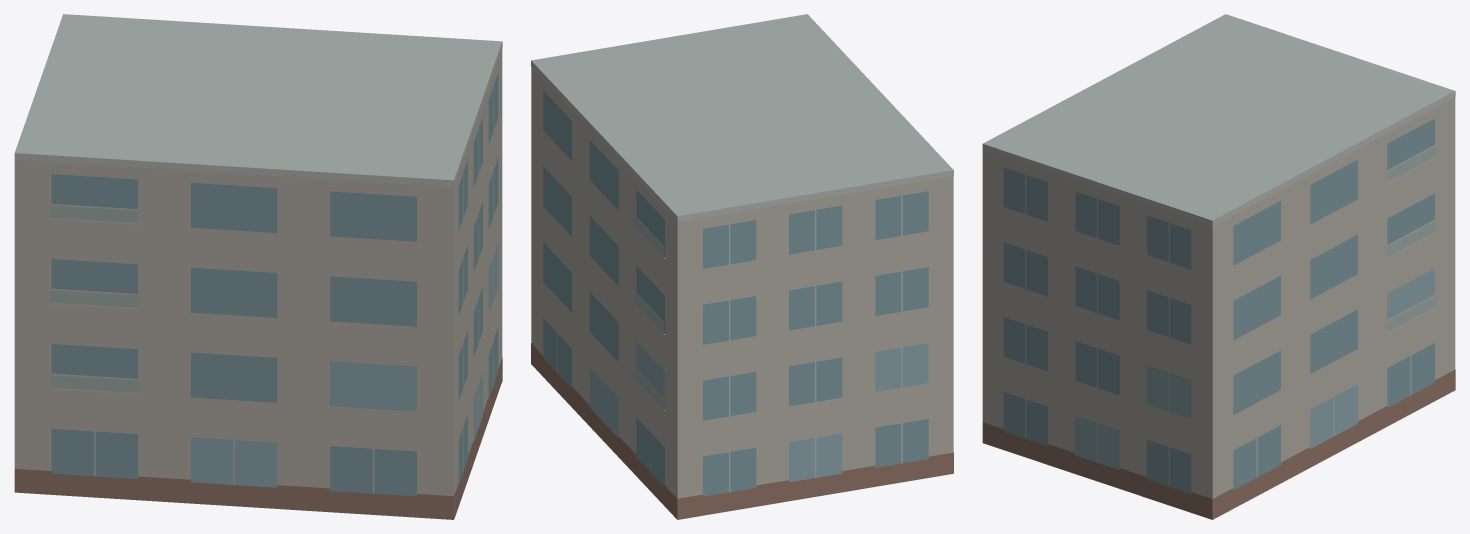
File: residential-b5359ea9-e8d1-4781-b196-005a1de555b5.glb
3 views of the same model, side by side, from view 1: azimuth 30°, elevation 25°; view 2: azimuth 150°, elevation 25°; view 3: azimuth 270°, elevation 25° (orthographic). The views are drawn at different scales.
Visible parts, largest first — view 1: residential-b5359ea9-e8d1-4781-b196-005a1de555b5.tmp; view 2: residential-b5359ea9-e8d1-4781-b196-005a1de555b5.tmp; view 3: residential-b5359ea9-e8d1-4781-b196-005a1de555b5.tmp.
Part boxes in pixels (x1,y1,x2,y2): residential-b5359ea9-e8d1-4781-b196-005a1de555b5.tmp: (14, 14, 502, 519); residential-b5359ea9-e8d1-4781-b196-005a1de555b5.tmp: (531, 14, 953, 519); residential-b5359ea9-e8d1-4781-b196-005a1de555b5.tmp: (982, 14, 1455, 519).
Size of the model in its own units: 18.07 by 12.2 by 17.48.
